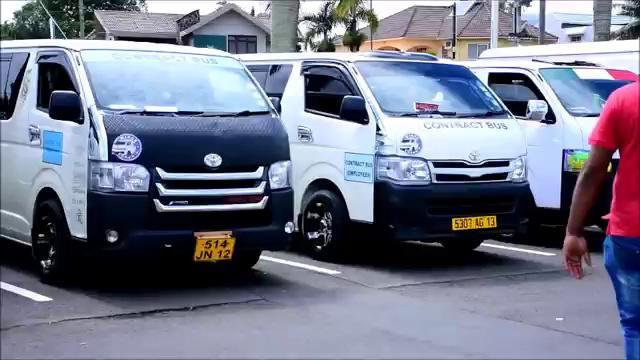van: (2, 33, 302, 282), (259, 43, 534, 274)
